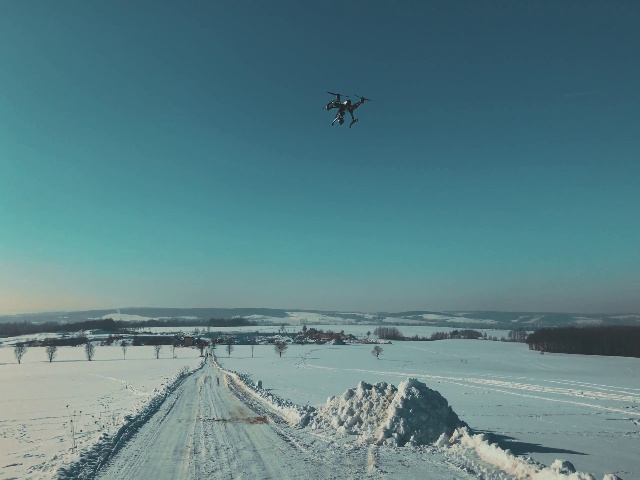drone: (320, 89, 371, 131)
